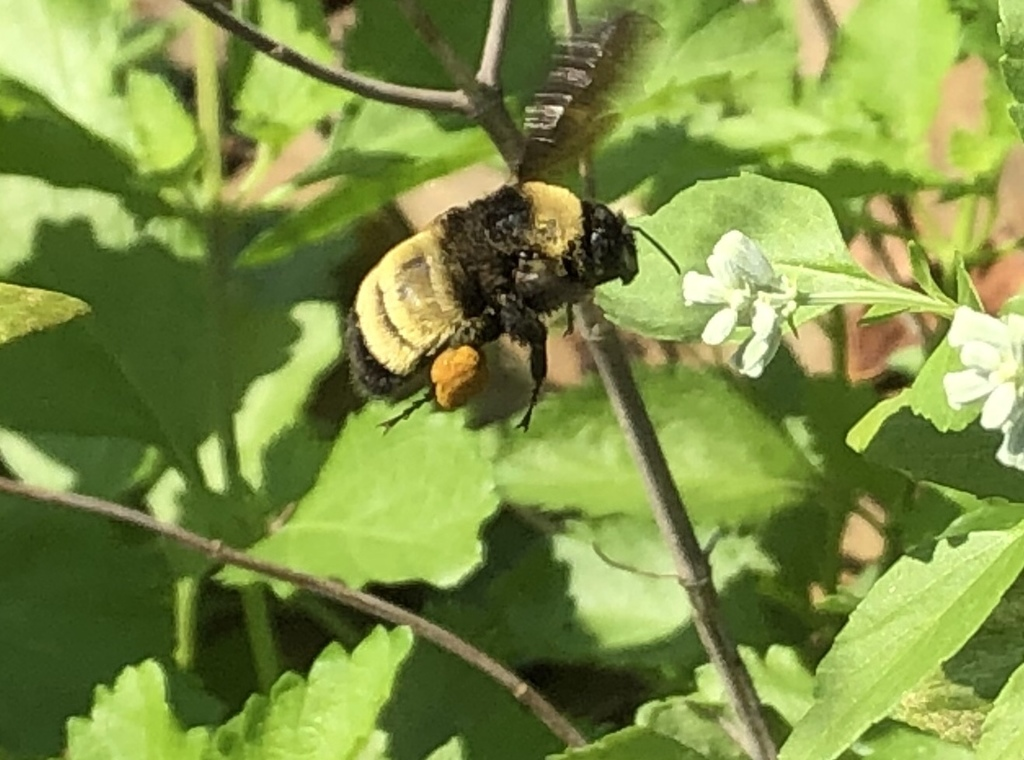bumblebee: (329, 175, 681, 438)
